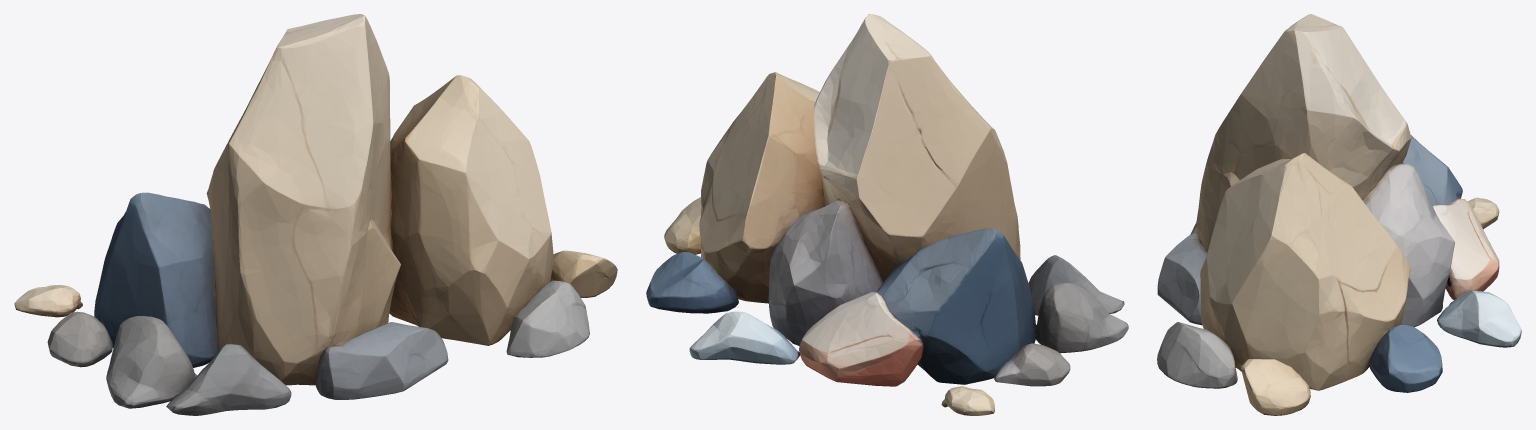
Rendered from sand_rock.glb.
The picture shows the model from 3 angles, left to right: view 1: azimuth 30°, elevation 25°; view 2: azimuth 150°, elevation 25°; view 3: azimuth 270°, elevation 25°; orthographic projection. The views are drawn at different scales.
Parts seen in each view (by area): view 1: world; view 2: world; view 3: world.
Boxes of the visible parts, box(x1,y1,x2,y2) form: world: box(14, 14, 617, 415); world: box(646, 14, 1128, 415); world: box(1157, 14, 1521, 415).
Bounding box in the file's own units: 0.9954 × 0.608 × 0.698.
Materials: 1 (1 with a texture image).
